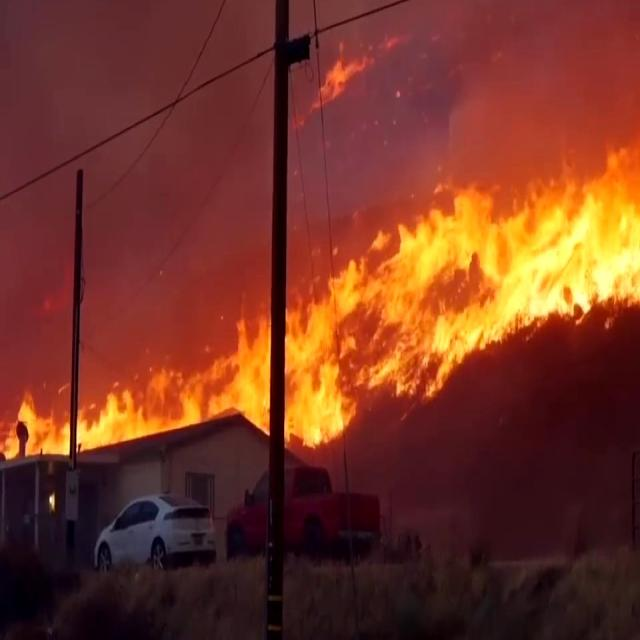fire: (299, 155, 587, 424)
